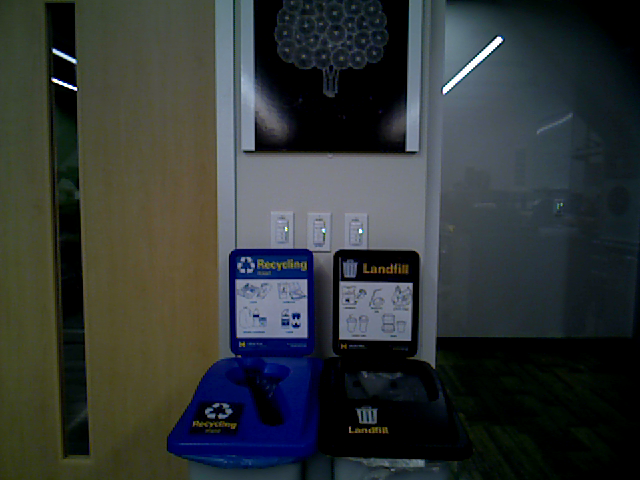painting1: (241, 1, 424, 153)
